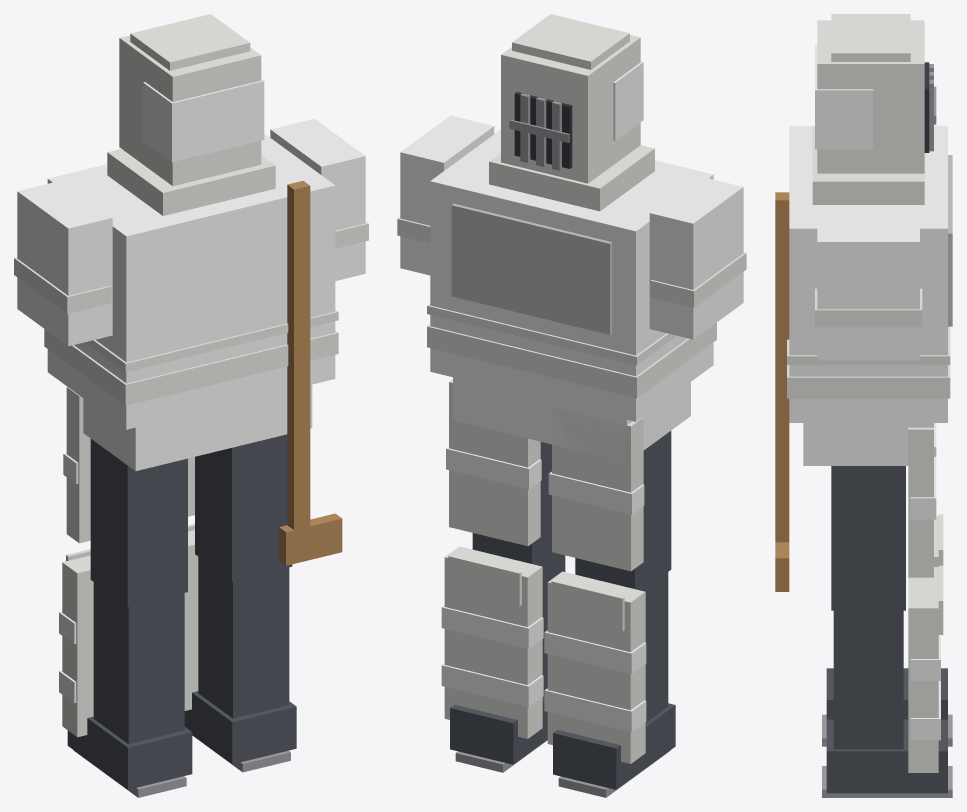
Rendered from GOALIE.gltf.
3 views of the same model, side by side, from view 1: azimuth 30°, elevation 25°; view 2: azimuth 150°, elevation 25°; view 3: azimuth 270°, elevation 25° (orthographic). The views are drawn at different scales.
Visible parts, largest first — view 1: GOALIE; view 2: GOALIE; view 3: GOALIE.
Part boxes in pixels (<box>): GOALIE: <box>14,14,368,797</box>; GOALIE: <box>397,14,746,797</box>; GOALIE: <box>775,14,952,797</box>.
Bounding box in the file's own units: 0.75 × 1.72 × 0.38.
